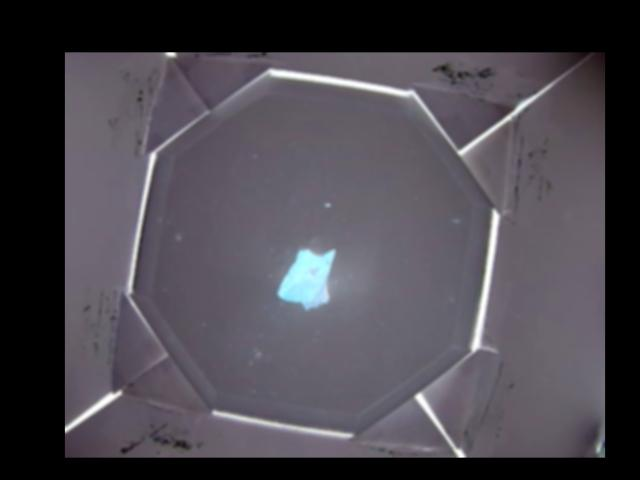Brisk: (277, 246, 334, 308)
